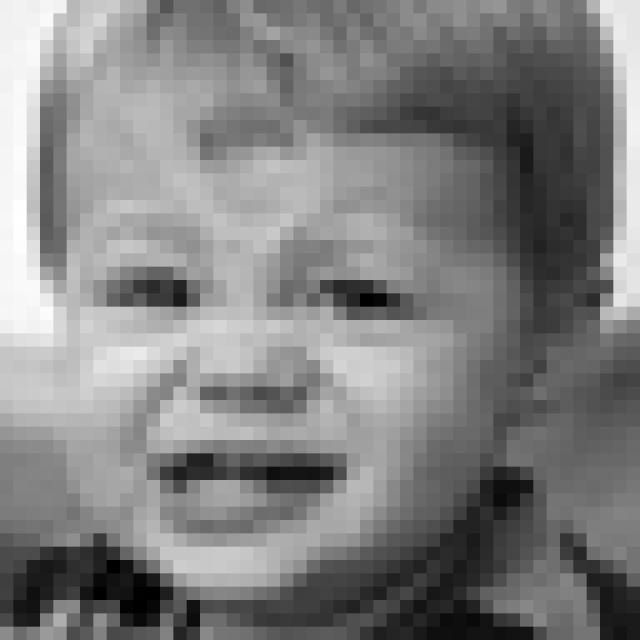sad: (83, 195, 457, 555)
